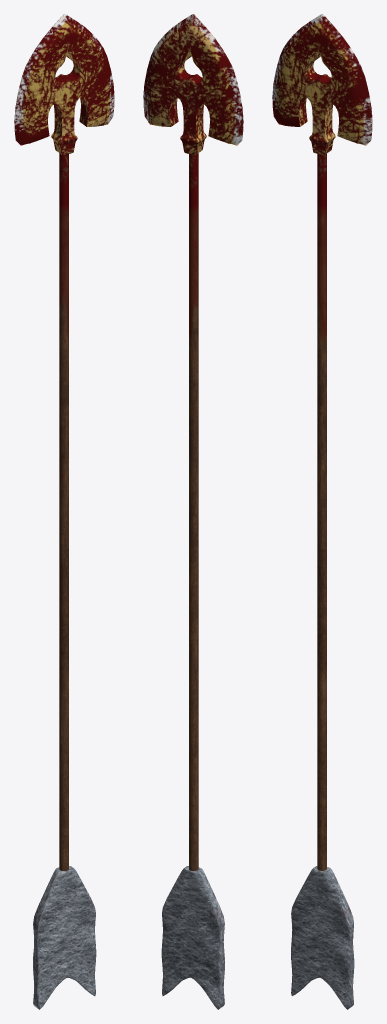
3 views of the same model, side by side, from view 1: azimuth 30°, elevation 25°; view 2: azimuth 150°, elevation 25°; view 3: azimuth 330°, elevation 25° (orthographic).
Parts seen in each view (by area): view 1: pCube1, pCylinder1, pCube2; view 2: pCube1, pCylinder1, pCube2; view 3: pCube1, pCylinder1, pCube2.
Boxes of the visible parts, bbox=[...] form: pCube1: bbox=[14, 14, 114, 155]; pCylinder1: bbox=[59, 153, 68, 870]; pCube2: bbox=[33, 866, 96, 1009]; pCube1: bbox=[143, 14, 243, 155]; pCylinder1: bbox=[189, 153, 198, 870]; pCube2: bbox=[161, 866, 224, 1009]; pCube1: bbox=[272, 14, 372, 155]; pCylinder1: bbox=[317, 154, 326, 870]; pCube2: bbox=[291, 866, 354, 1009].
Bounding box in the file's own units: 0.00925 × 0.0871 × 0.00153.
1 material, 1 textured.
